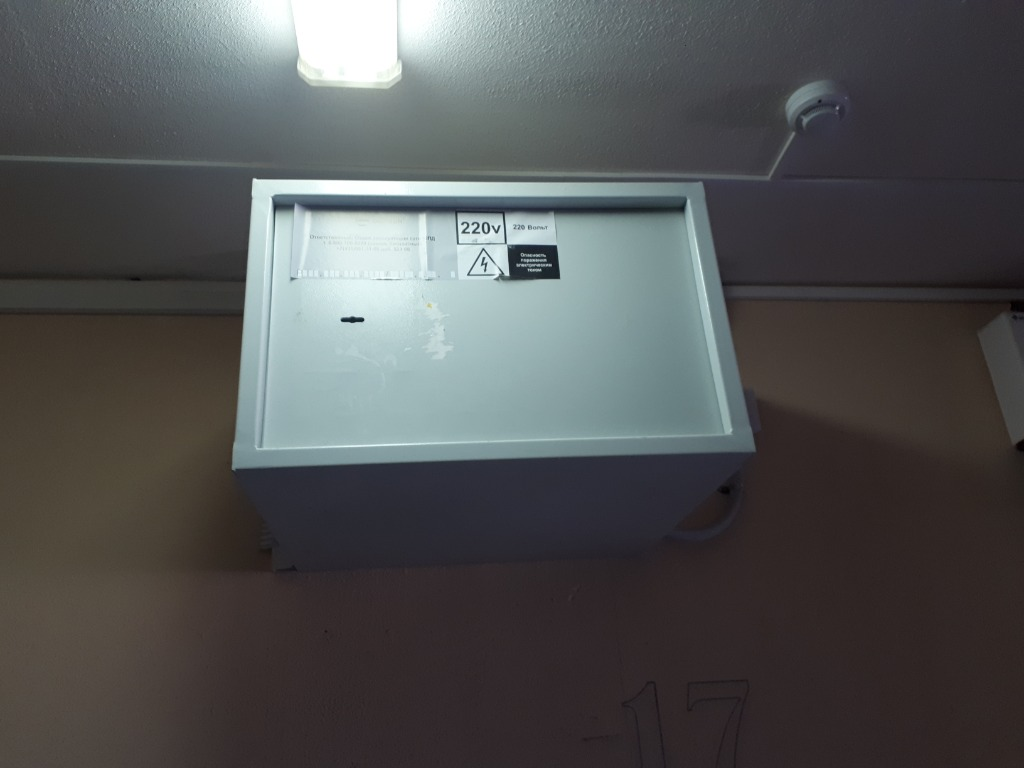shta-7m: (221, 164, 765, 560)
